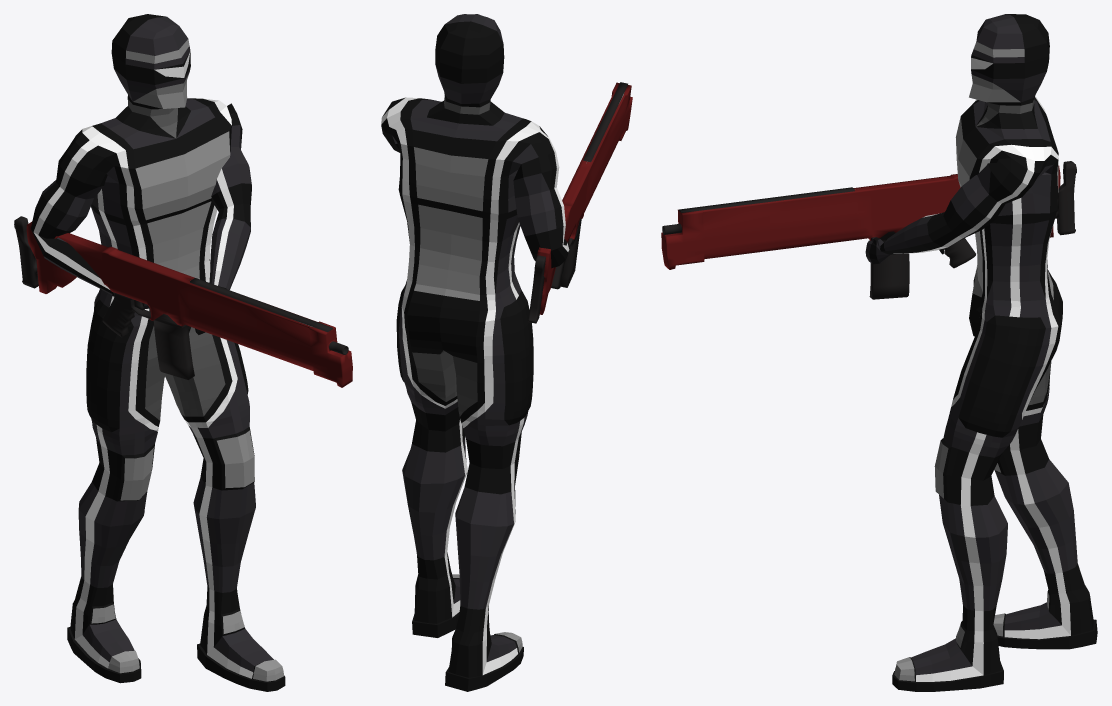
The model's file is ASI5.obj.
3 views of the same model, side by side, from view 1: azimuth 30°, elevation 25°; view 2: azimuth 150°, elevation 25°; view 3: azimuth 270°, elevation 25° (orthographic).
Parts seen in each view (by area): view 1: metarig_object_metarig_mesh, metarig_object.001_metarig_mesh.001; view 2: metarig_object_metarig_mesh, metarig_object.001_metarig_mesh.001; view 3: metarig_object_metarig_mesh, metarig_object.001_metarig_mesh.001.
Boxes of the visible parts, x1,y1,x2,y2 form: metarig_object_metarig_mesh: (31, 14, 285, 691); metarig_object.001_metarig_mesh.001: (14, 216, 352, 387); metarig_object_metarig_mesh: (381, 14, 569, 691); metarig_object.001_metarig_mesh.001: (528, 82, 632, 323); metarig_object_metarig_mesh: (865, 14, 1097, 691); metarig_object.001_metarig_mesh.001: (661, 161, 1076, 299).
Bounding box in the file's own units: 0.5752 × 1.85 × 1.15.
2 materials, 2 textured.
